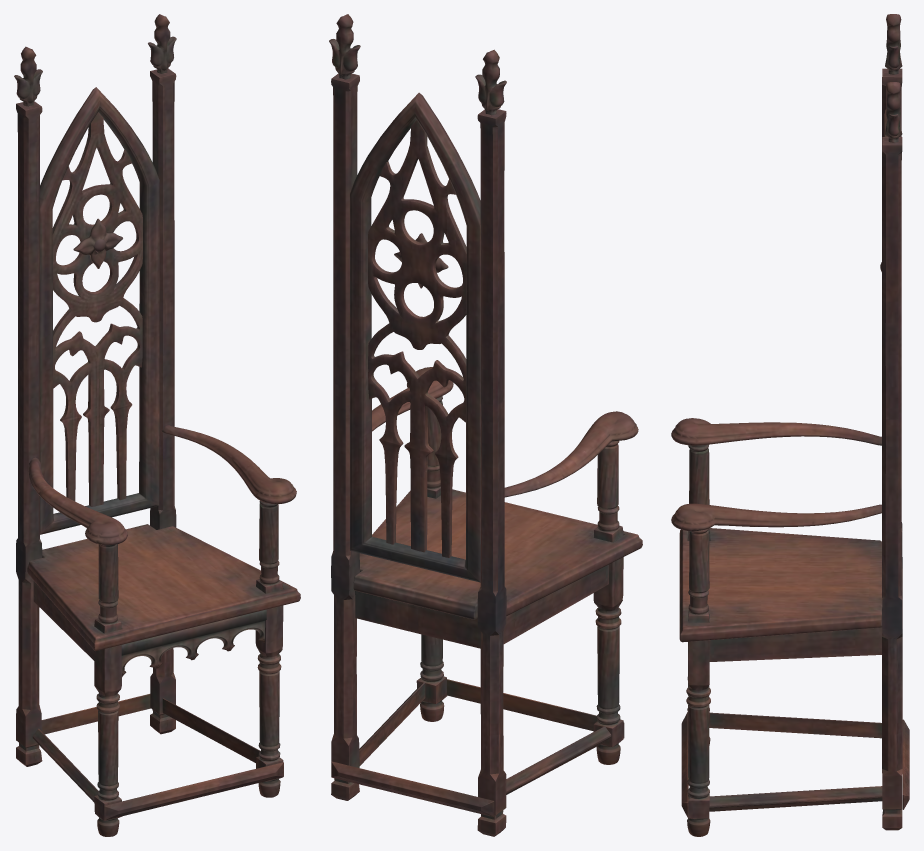
The model's file is WoodenChair_01.glb.
The picture shows the model from 3 angles, left to right: view 1: azimuth 30°, elevation 25°; view 2: azimuth 150°, elevation 25°; view 3: azimuth 270°, elevation 25°; orthographic projection. The views are drawn at different scales.
Parts seen in each view (by area): view 1: WoodenChair_01; view 2: WoodenChair_01; view 3: WoodenChair_01.
Boxes of the visible parts, x1,y1,x2,y2 form: WoodenChair_01: [14, 14, 300, 836]; WoodenChair_01: [329, 14, 642, 836]; WoodenChair_01: [671, 14, 909, 836].
Bounding box in the file's own units: 0.6881 × 2.27 × 0.6584.
1 material, 1 textured.
